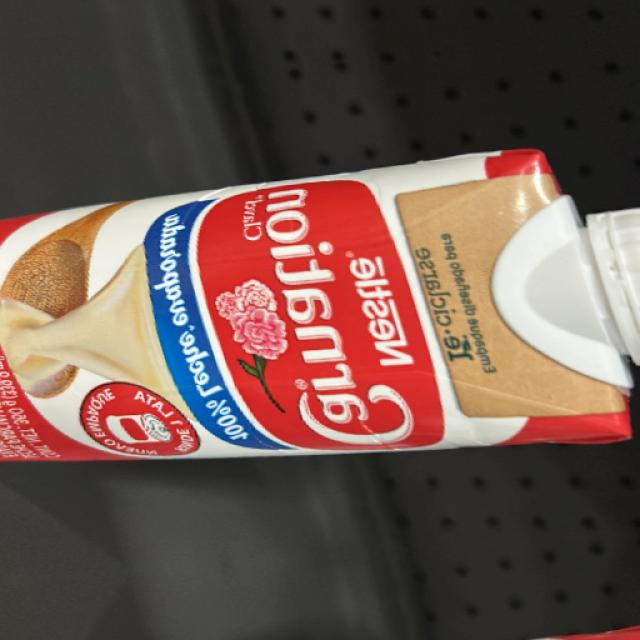nestleCarnation: (26, 178, 593, 456)
